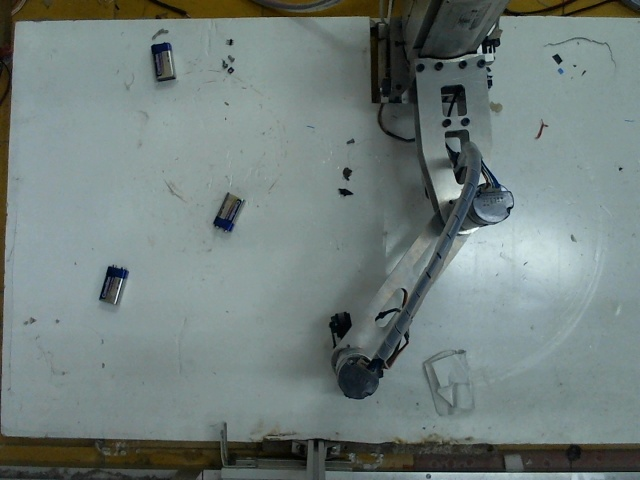battery: (96, 261, 129, 306), (209, 189, 244, 231), (146, 40, 177, 81)
